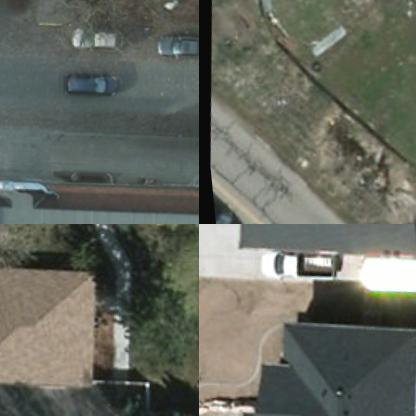camping car: (341, 252, 415, 306)
car: (54, 65, 118, 102), (63, 22, 122, 57), (207, 176, 250, 223), (151, 31, 198, 66)
pickup: (247, 246, 345, 290)
